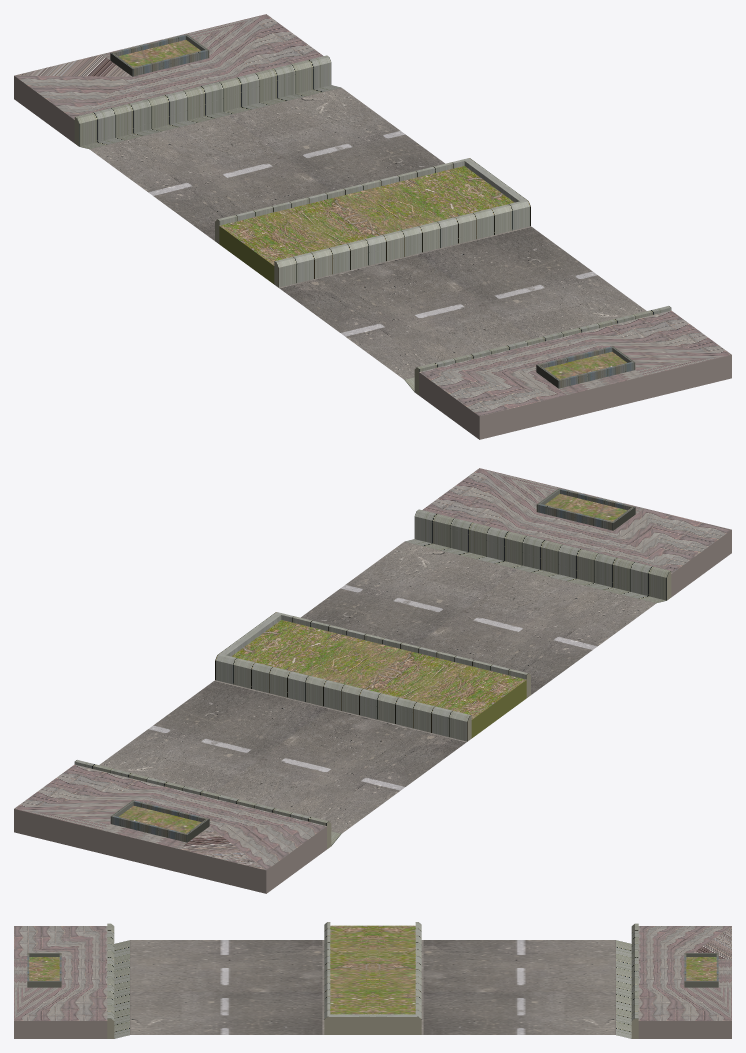
File: Road_New_1,1f.fbx
3 renders of one model, top to bottom at view 1: azimuth 30°, elevation 25°; view 2: azimuth 150°, elevation 25°; view 3: azimuth 270°, elevation 25°, orthographic. The views are drawn at different scales.
Visible parts, largest first — view 1: Plane.001, Plane; view 2: Plane.001, Plane; view 3: Plane, Plane.001.
Part boxes in pixels (x1,y1,x2,y2): Plane.001: (14, 14, 731, 439); Plane: (79, 85, 646, 391); Plane.001: (14, 468, 731, 893); Plane: (99, 539, 666, 845); Plane: (114, 940, 631, 1038); Plane.001: (14, 922, 731, 1038).
Bounding box in the file's own units: 1473 × 461 × 54.49.
